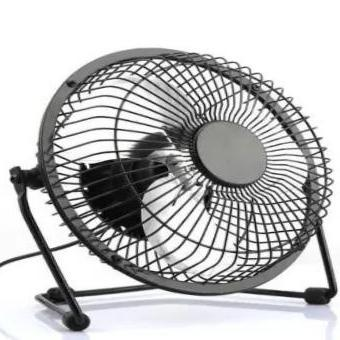fan: (2, 42, 340, 338)
